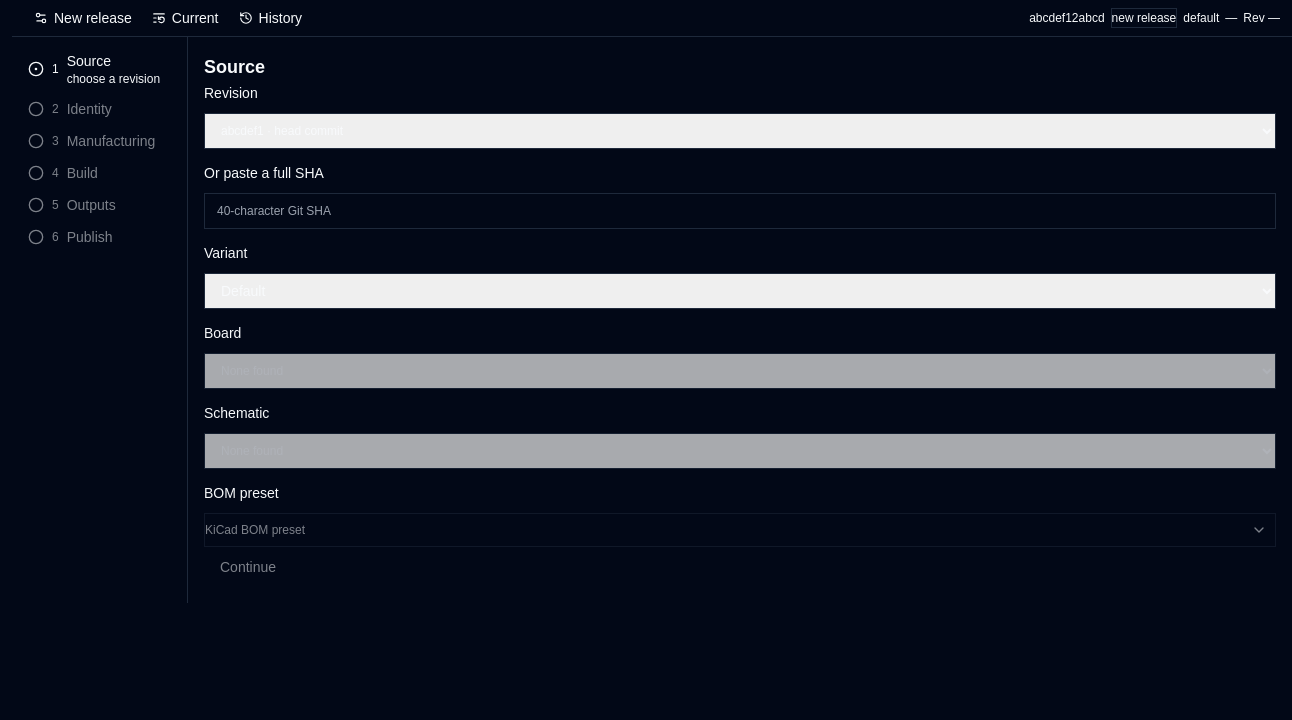
Test: ReleaseStudioPanel › lists composed documentation sheets as a dedicated preview surface
The image size is (1292, 720).
What coordinates should you click on to do the following:
click the button "History"
I would click on:
 (270, 18)
Its box is left=228, top=4, right=312, bottom=32.
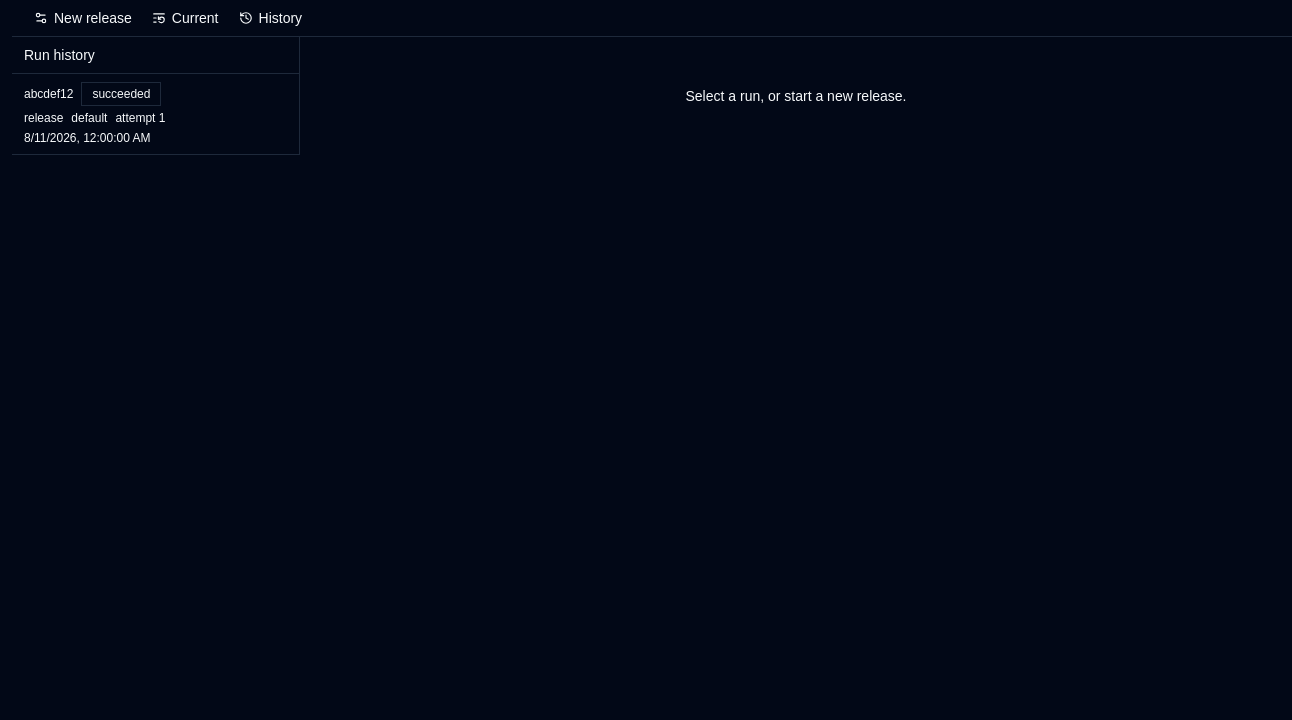
What coordinates should you click on to do the following:
click the button "abcdef12"
I would click on:
 (156, 114)
Its box is left=12, top=74, right=299, bottom=155.
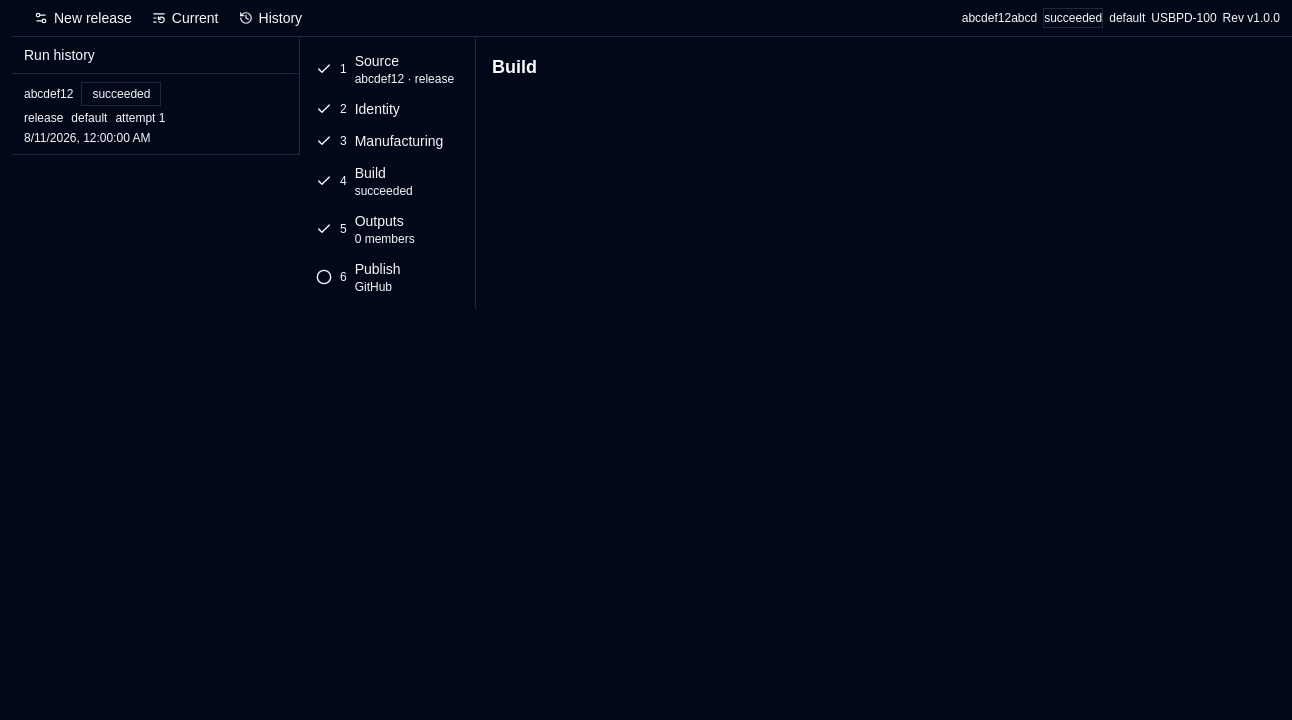
Expected: the button "5 Outputs 0 members" is enabled
What coordinates should you click on to do the following:
click the button "5 Outputs 0 members"
I would click on:
 (388, 229)
Its box is left=308, top=205, right=467, bottom=253.
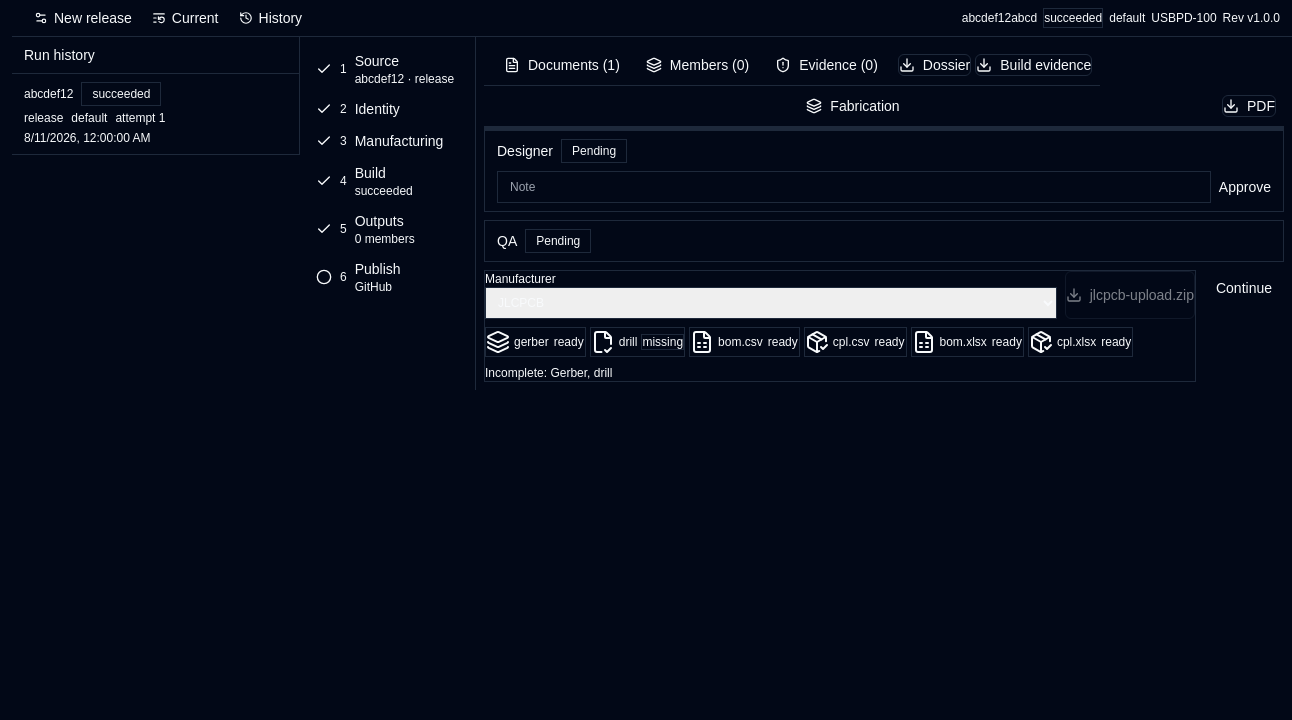
Expected: the tab "Documents (1)" is shown, left=495, top=48, right=629, bottom=82
Expected: the tab "Fabrication" is shown, left=495, top=90, right=1211, bottom=122
Expected: the button "PDF" is shown, left=1222, top=95, right=1276, bottom=117
